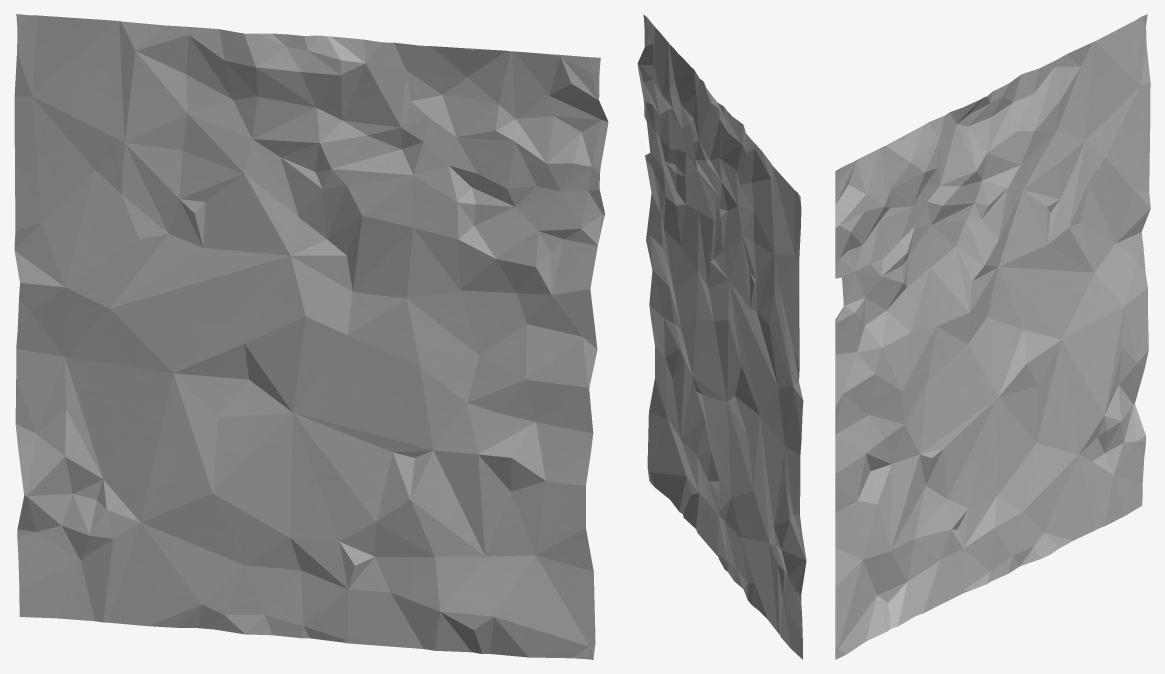
3 views of the same model, side by side, from view 1: azimuth 30°, elevation 25°; view 2: azimuth 150°, elevation 25°; view 3: azimuth 270°, elevation 25° (orthographic). The views are drawn at different scales.
Size of the model in its own units: 0.5855 by 0.8373 by 0.4871.
Materials: 2 (2 with a texture image).
